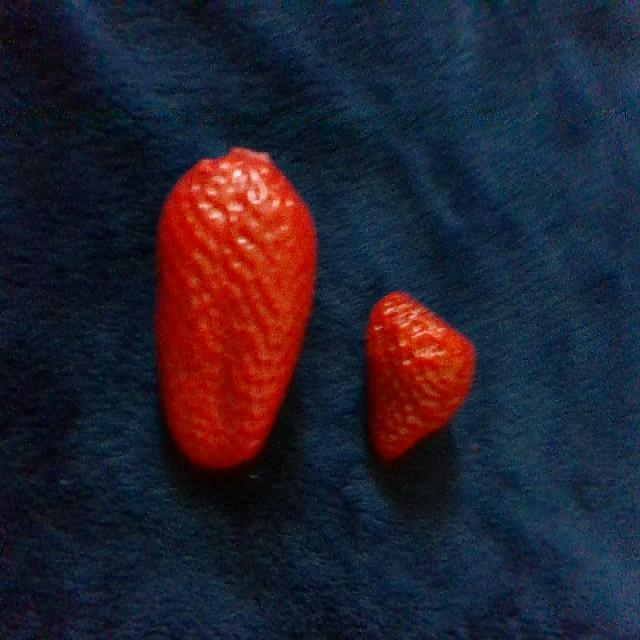chica_roja: (368, 292, 474, 456)
grande_roja: (155, 148, 316, 467)
